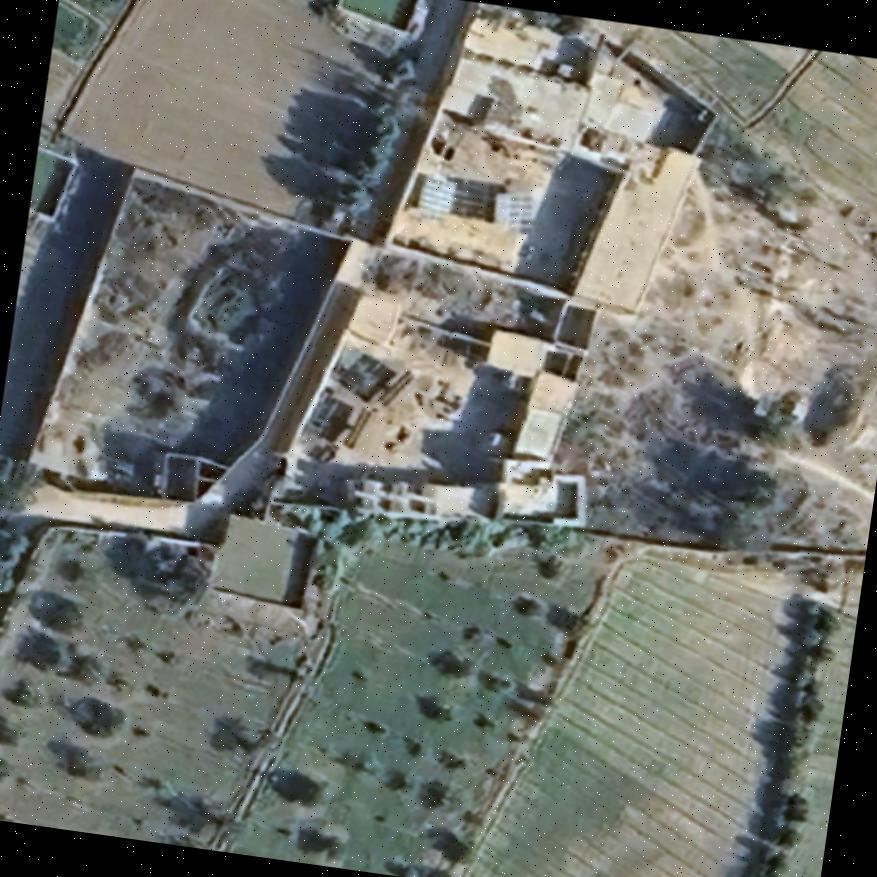Solarpanel: (414, 171, 457, 216), (490, 190, 534, 225)
